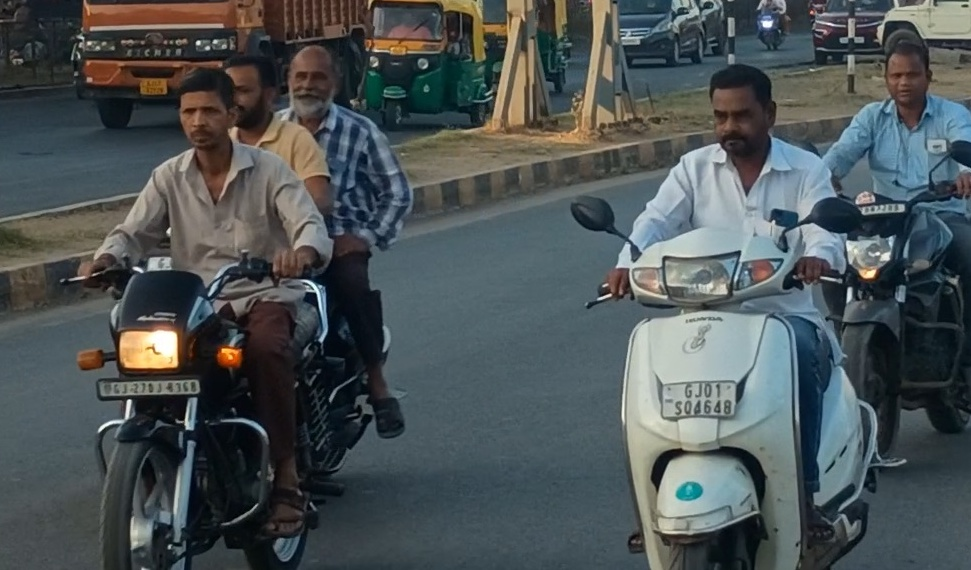BikeWithRider: (58, 38, 415, 570), (567, 59, 905, 570), (817, 34, 971, 439)
NoHelmet: (704, 61, 786, 160), (173, 65, 240, 153), (282, 41, 344, 122), (222, 52, 277, 132), (880, 41, 937, 107)
